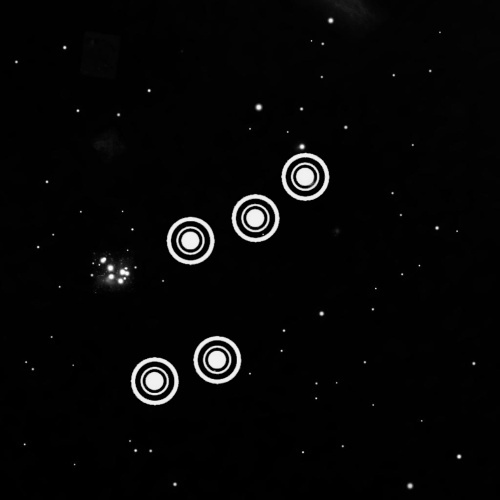lyra: (122, 134, 341, 418)
